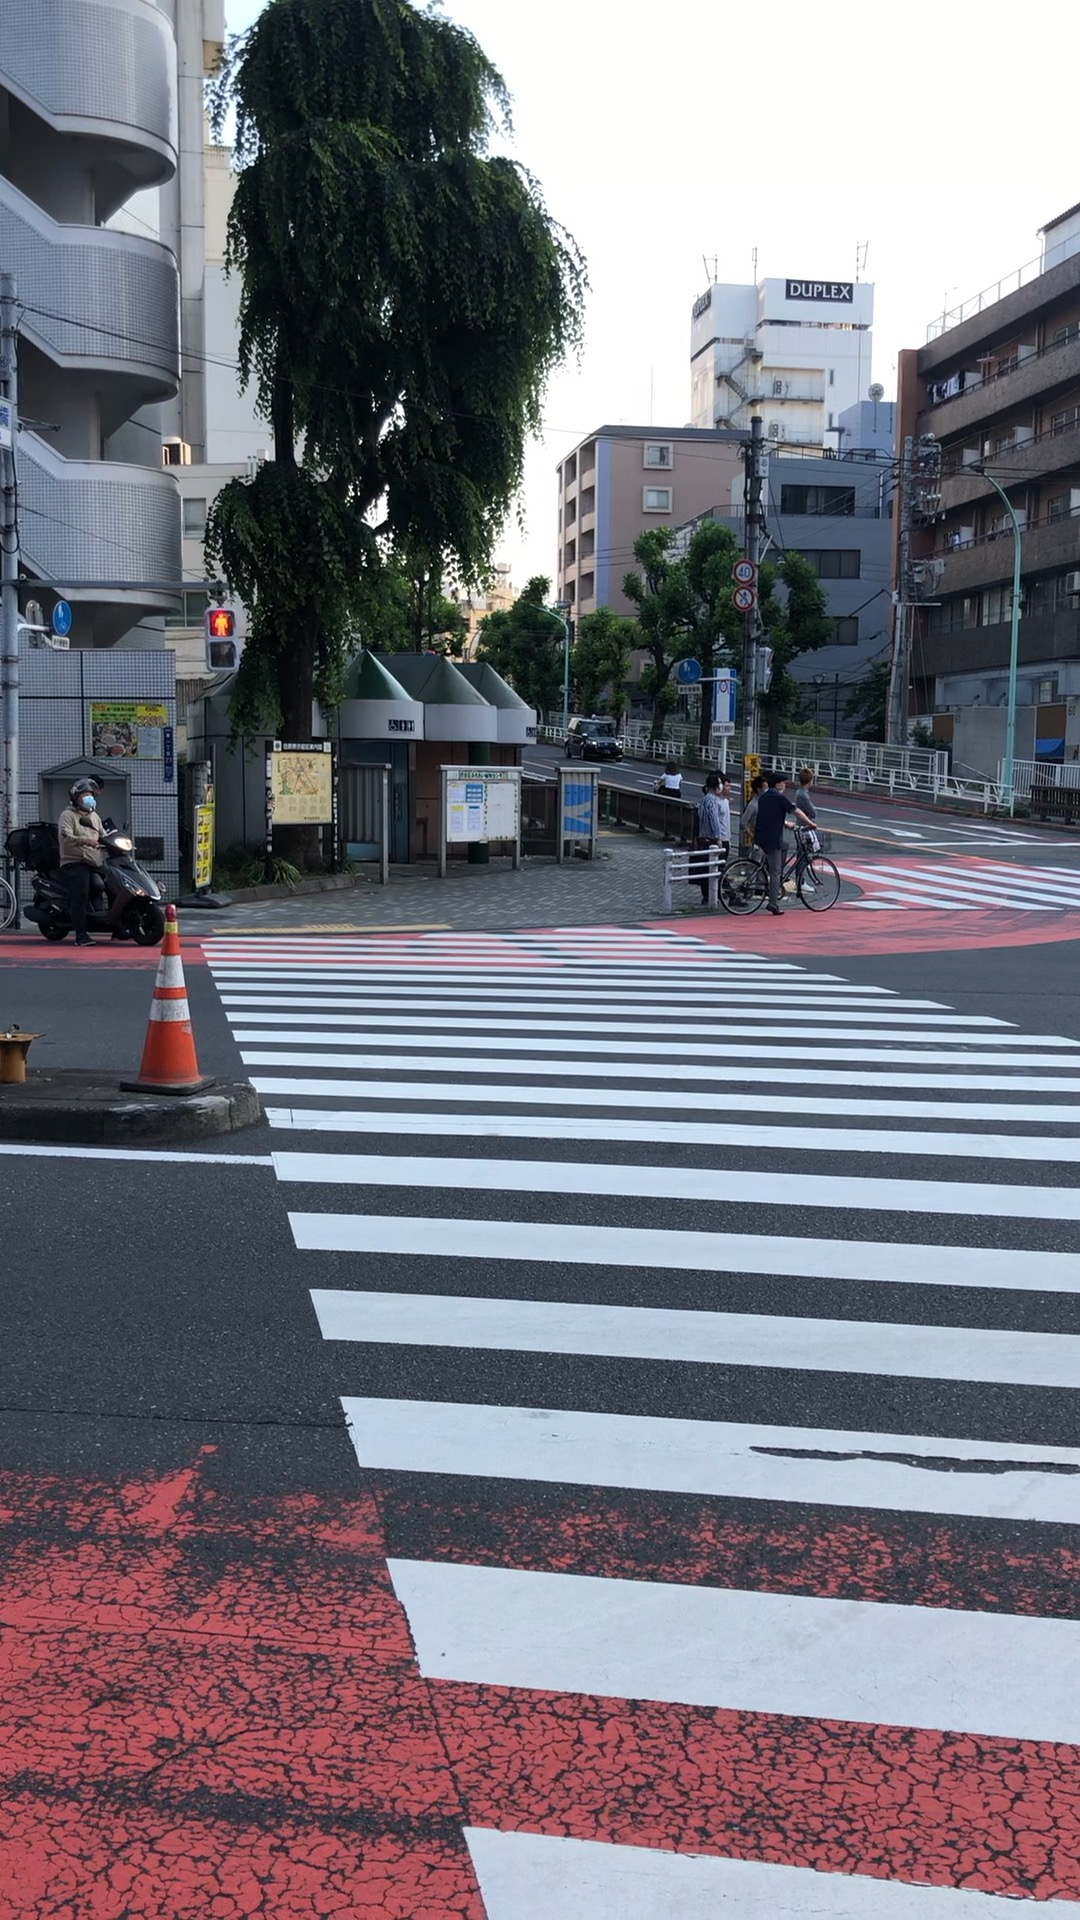red: (206, 607, 239, 671)
